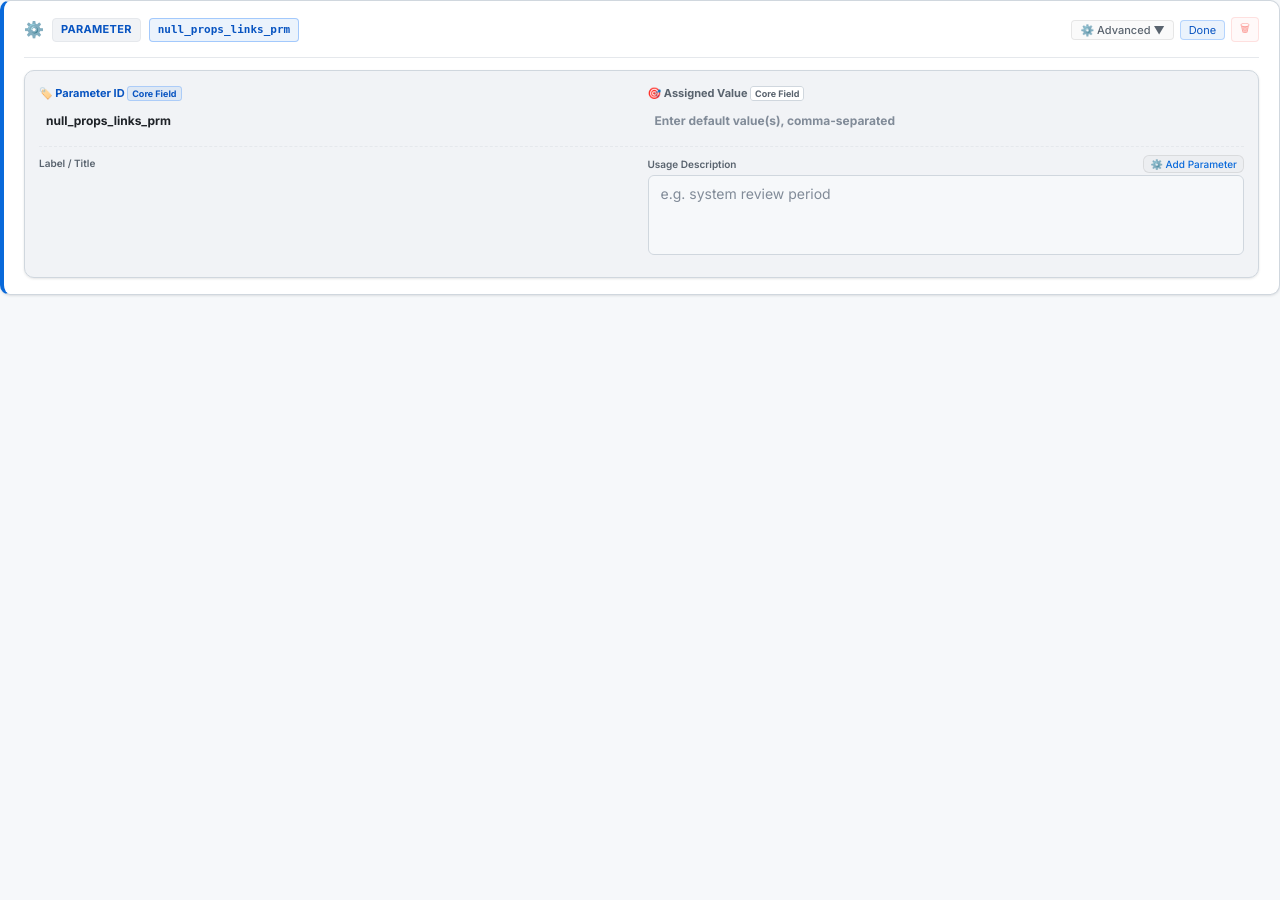
Test case: Adversarial Stress Test: ParameterCard Component Robustness › Constraints & Metadata Edge Cases › handles null links and props in edit mode with advanced view opened
This screenshot has width=1280, height=900.
Click the button titled "toggle optional/advanced parameter metadata" at (1123, 30), box x1=1072 y1=20 x2=1174 y2=40
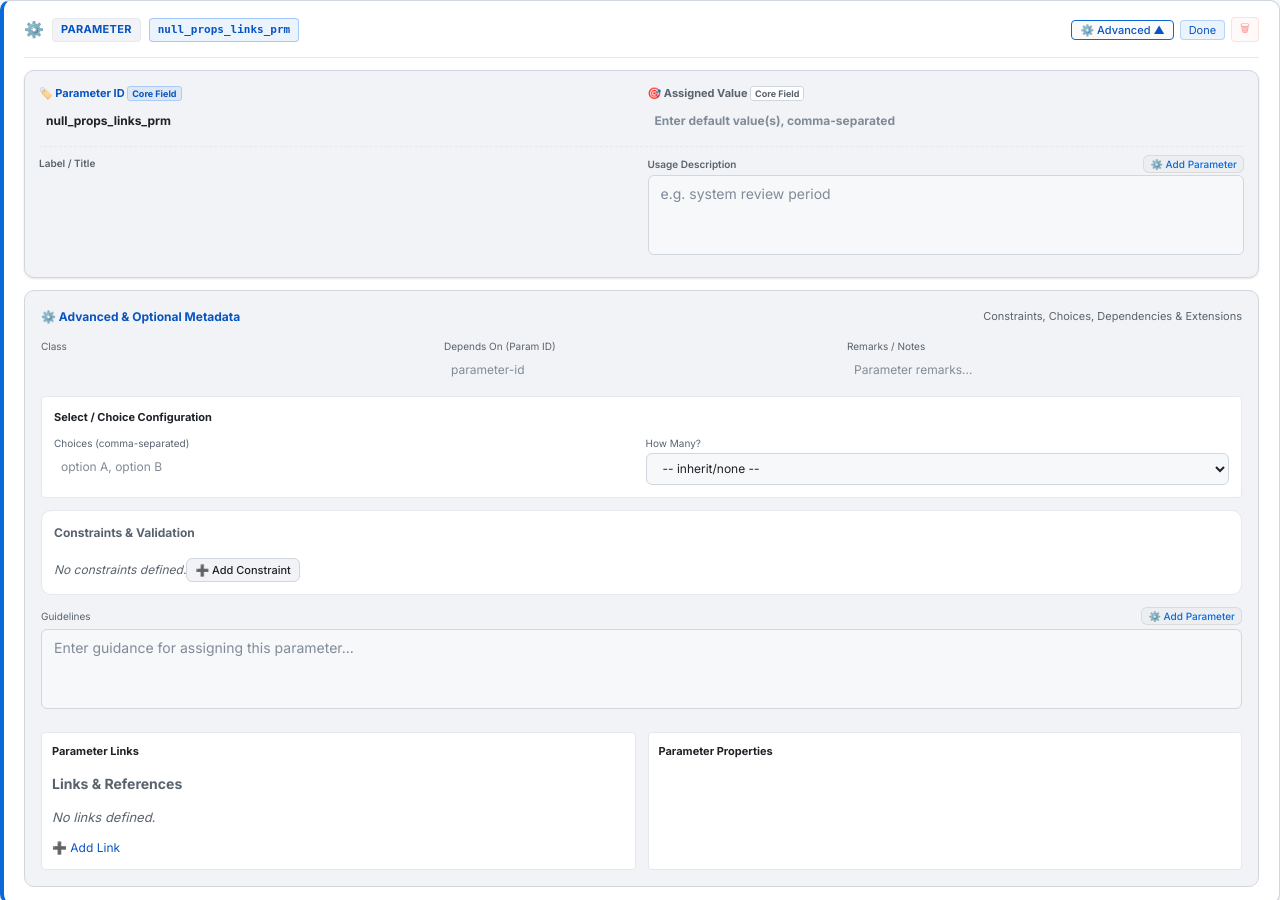
Expected: the text "Parameter Links" is shown, x1=52 y1=744 x2=139 y2=758
Expected: the text "Parameter Properties" is shown, x1=658 y1=744 x2=773 y2=758
